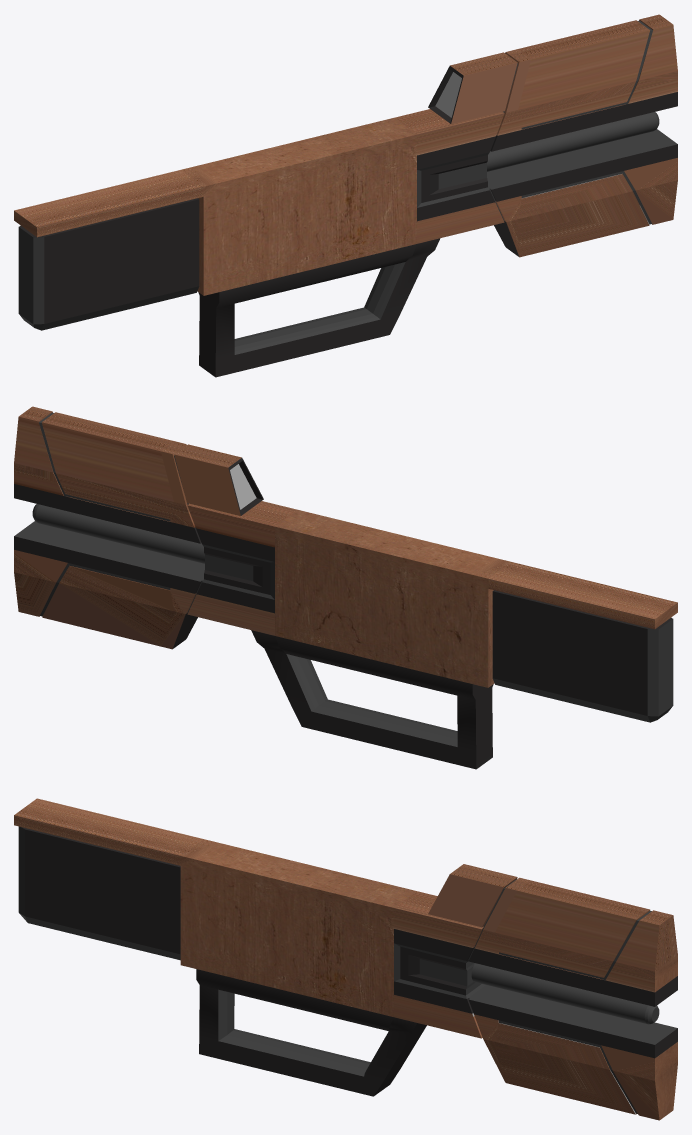
Rendered from Blaster.fbx.
3 renders of one model, top to bottom at view 1: azimuth 30°, elevation 25°; view 2: azimuth 150°, elevation 25°; view 3: azimuth 330°, elevation 25°, orthographic.
Parts seen in each view (by area): view 1: pCylinder3, pCube4; view 2: pCylinder3, pCube4; view 3: pCylinder3, pCube4.
Boxes of the visible parts, x1,y1,x2,y2 form: pCylinder3: (14, 14, 677, 377); pCube4: (18, 198, 199, 330); pCylinder3: (14, 406, 677, 769); pCube4: (492, 590, 673, 722); pCylinder3: (14, 798, 677, 1120); pCube4: (18, 826, 180, 960).
Size of the model in its own units: 65.9 by 23.57 by 4.11.
